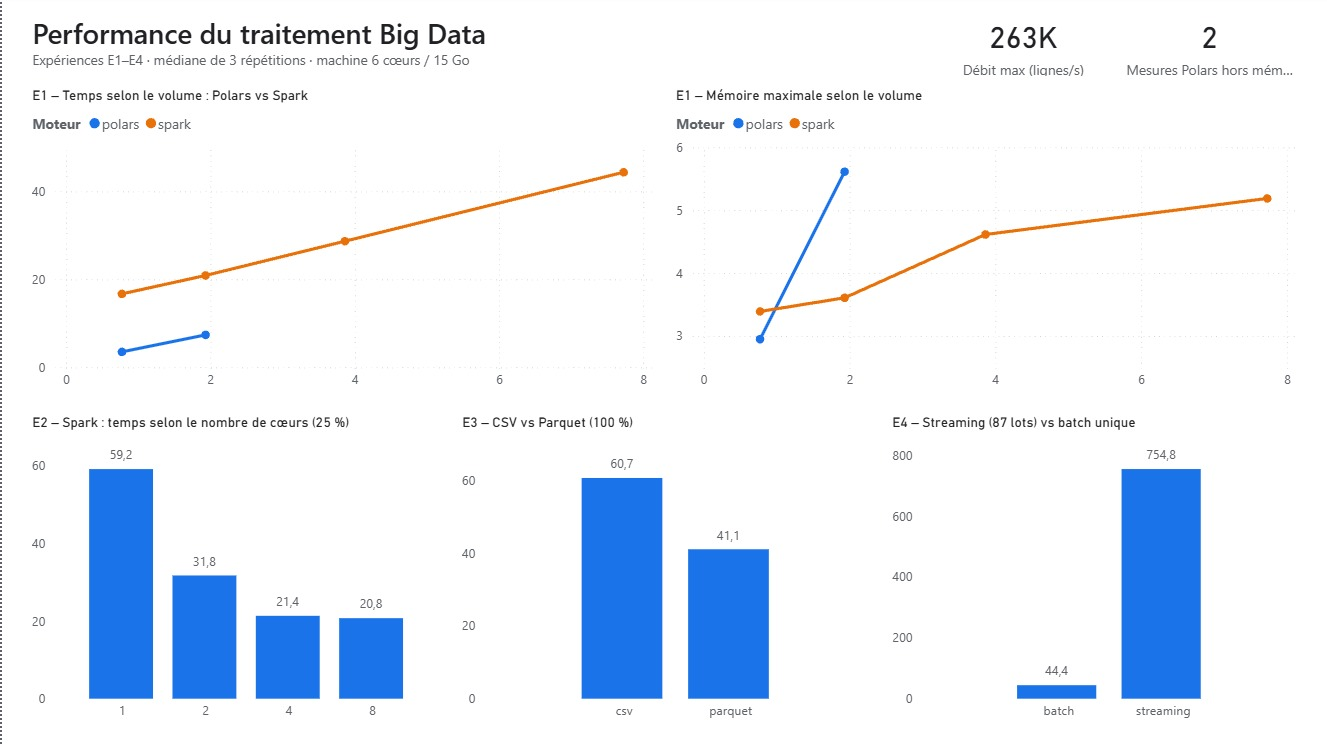

What the dashboard file says about the page in this screenshot:
{"tool":"powerbi","page":{"name":"Performance","canvas":[1280,720],"ordinal":4},"visuals":[{"type":"textbox","box":[24,8,860,64],"z":2000},{"type":"card","fields":{"Values":["_Mesures.Débit max (lignes/s)"]},"box":[900,8,172,70],"z":3000},{"type":"card","fields":{"Values":["_Mesures.Mesures hors mémoire"]},"box":[1080,8,172,70],"z":4000},{"type":"lineChart","title":"E1 – Temps selon le volume : Polars vs Spark","fields":{"Category":["fact_run.Millions de lignes"],"Y":["_Mesures.Temps E1 (s)"],"Series":["fact_run.engine"]},"box":[24,84,610,300],"z":5000},{"type":"lineChart","title":"E1 – Mémoire maximale selon le volume","fields":{"Category":["fact_run.Millions de lignes"],"Y":["_Mesures.Mémoire E1 (Go)"],"Series":["fact_run.engine"]},"box":[646,84,610,300],"z":6000},{"type":"clusteredColumnChart","title":"E2 – Spark : temps selon le nombre de cœurs (25 %)","fields":{"Category":["fact_run.Coeurs"],"Y":["_Mesures.Temps E2 (s)"]},"box":[24,400,403,304],"z":7000},{"type":"clusteredColumnChart","title":"E3 – CSV vs Parquet (100 %)","fields":{"Category":["fact_run.input_format"],"Y":["_Mesures.Temps E3 (s)"]},"box":[439,400,403,304],"z":8000},{"type":"clusteredColumnChart","title":"E4 – Streaming (87 lots) vs batch unique","fields":{"Category":["fact_run.mode"],"Y":["_Mesures.Temps E4 (s)"]},"box":[854,400,403,304],"z":9000}]}

Visuals, with their boxes in screenshot pixels (x1, y1, x2, y2), scaled from the page's 1280x720 canvas onto the 1327x744 screenshot:
textbox: x1=25 y1=8 x2=916 y2=74
card - _Mesures.Débit max (lignes/s): x1=933 y1=8 x2=1111 y2=81
card - _Mesures.Mesures hors mémoire: x1=1120 y1=8 x2=1298 y2=81
"E1 – Temps selon le volume : Polars vs Spark" lineChart: x1=25 y1=87 x2=657 y2=397
"E1 – Mémoire maximale selon le volume" lineChart: x1=670 y1=87 x2=1302 y2=397
"E2 – Spark : temps selon le nombre de cœurs (25 %)" clusteredColumnChart: x1=25 y1=413 x2=443 y2=727
"E3 – CSV vs Parquet (100 %)" clusteredColumnChart: x1=455 y1=413 x2=873 y2=727
"E4 – Streaming (87 lots) vs batch unique" clusteredColumnChart: x1=885 y1=413 x2=1303 y2=727
